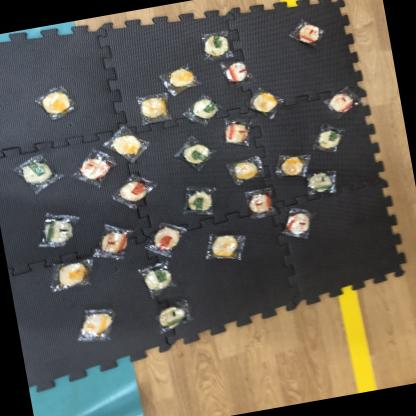green_setoshio: (12, 152, 64, 196), (33, 210, 82, 251), (170, 136, 214, 174), (152, 298, 195, 336), (178, 92, 222, 129), (134, 260, 178, 296), (177, 186, 220, 221), (301, 166, 344, 200), (194, 29, 235, 62), (310, 122, 346, 154)
red_setoshio: (67, 144, 119, 190), (106, 171, 158, 215), (138, 217, 188, 262), (85, 218, 133, 264), (239, 182, 280, 224), (284, 15, 326, 51), (279, 204, 316, 242), (217, 114, 255, 150), (320, 87, 360, 119), (216, 56, 254, 88)
yellow_setoshio: (101, 119, 151, 166), (45, 255, 96, 295), (70, 304, 120, 344), (202, 228, 252, 266), (32, 84, 76, 124), (133, 89, 175, 129), (242, 82, 286, 120), (158, 61, 202, 98), (223, 153, 268, 188), (270, 149, 316, 181)
